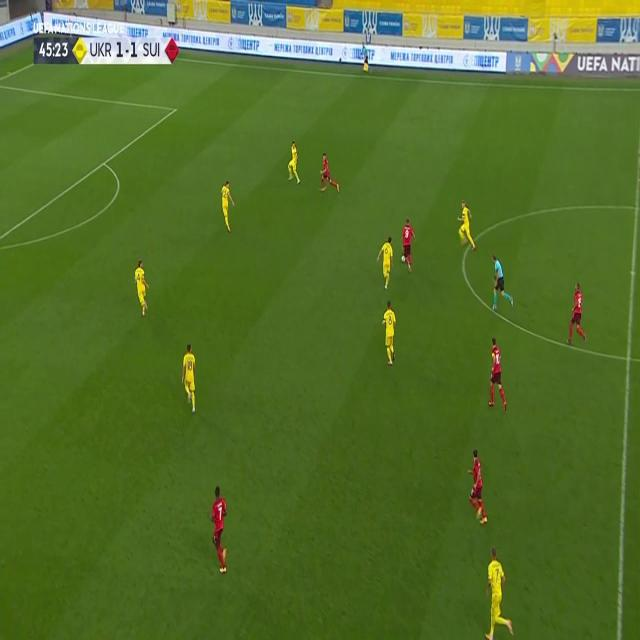ball: (400, 253, 406, 263)
player: (481, 547, 516, 640), (206, 486, 230, 574), (485, 338, 509, 410), (466, 447, 488, 525), (565, 281, 588, 346), (489, 253, 513, 310), (180, 343, 198, 413), (456, 199, 478, 251), (381, 300, 397, 366), (133, 258, 149, 317), (318, 151, 339, 195), (376, 236, 393, 290), (219, 179, 235, 233), (402, 218, 416, 273), (286, 140, 301, 184), (361, 42, 369, 74)
